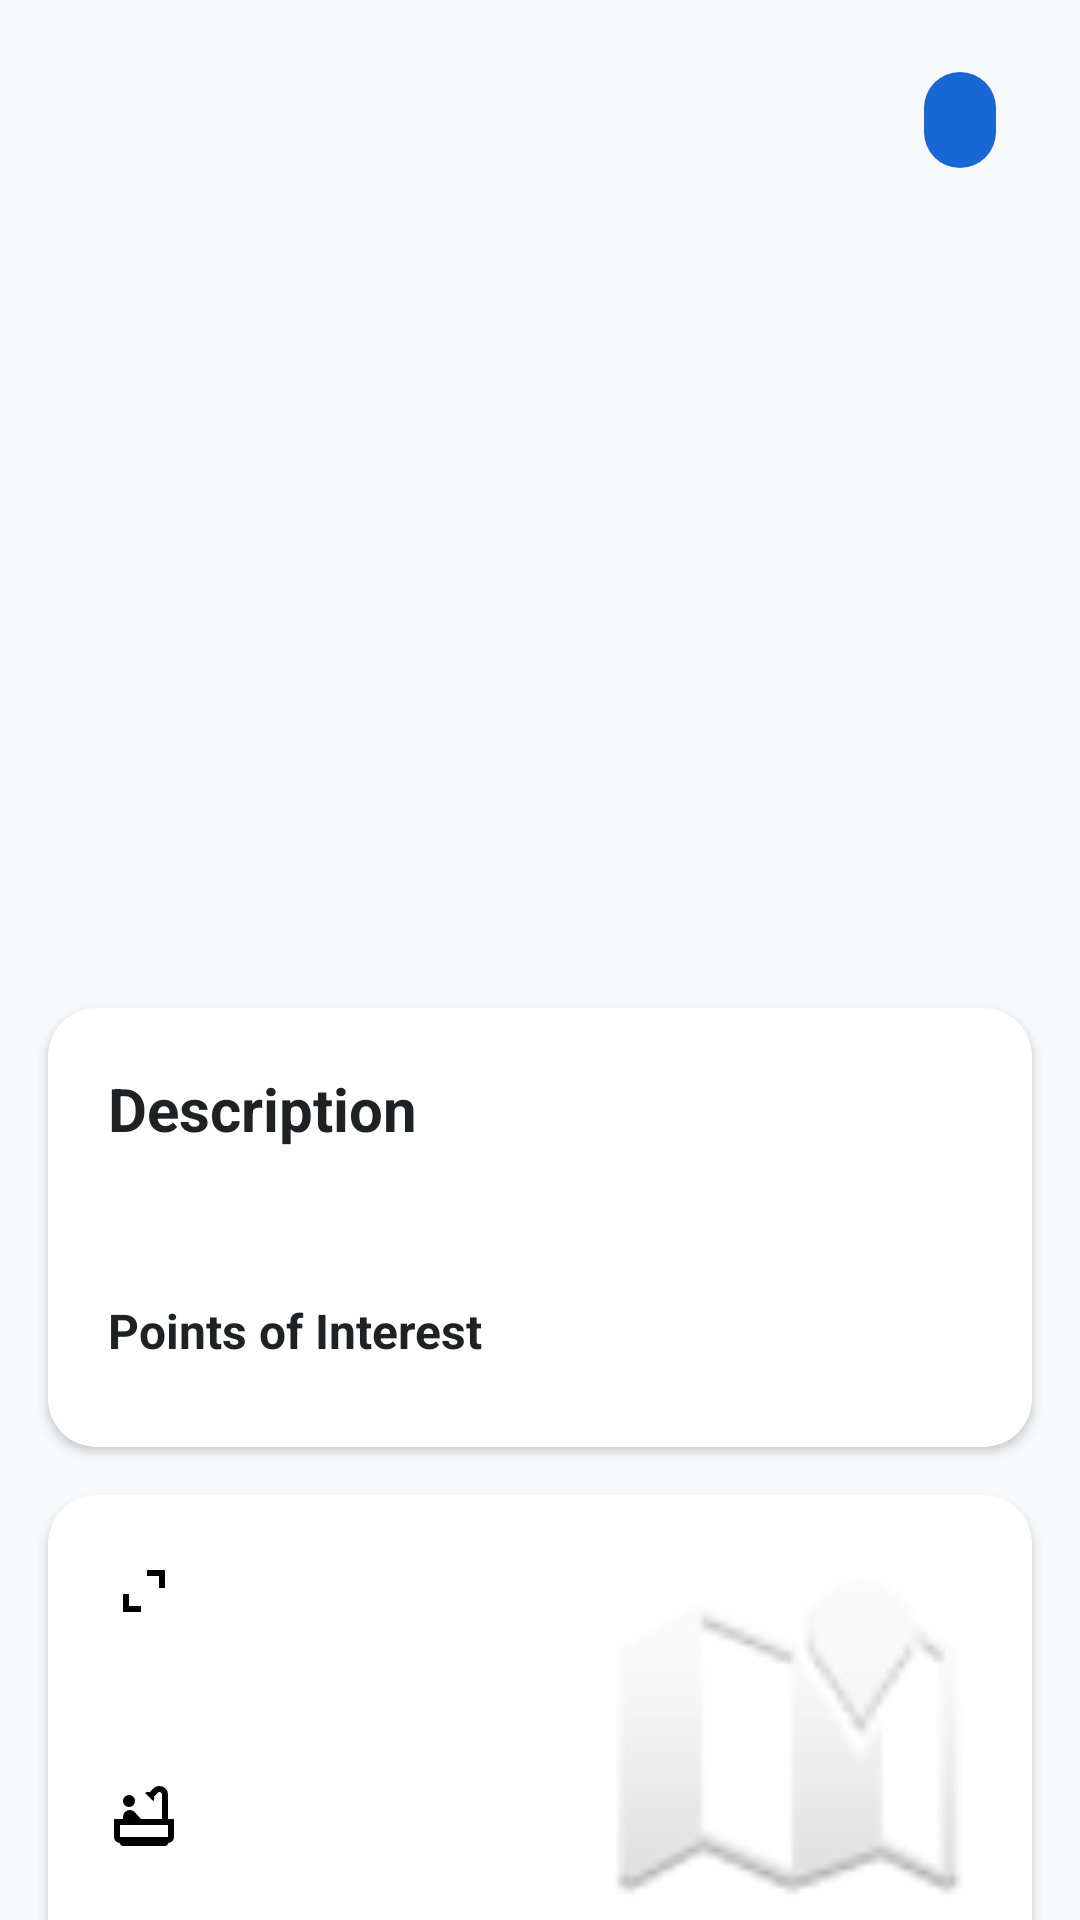

Screen size 1080w x 1920h. Icon name, then its box in pixels as {"left": x1, "top": y1, "right": x2, "bottom": y2}:
map: {"left": 618, "top": 1617, "right": 958, "bottom": 1891}
